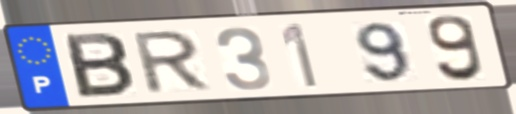1: (278, 20, 321, 91)
3: (214, 25, 273, 92)
9: (426, 13, 487, 84), (352, 19, 413, 84)
B: (61, 31, 138, 101)
R: (131, 28, 216, 97)
